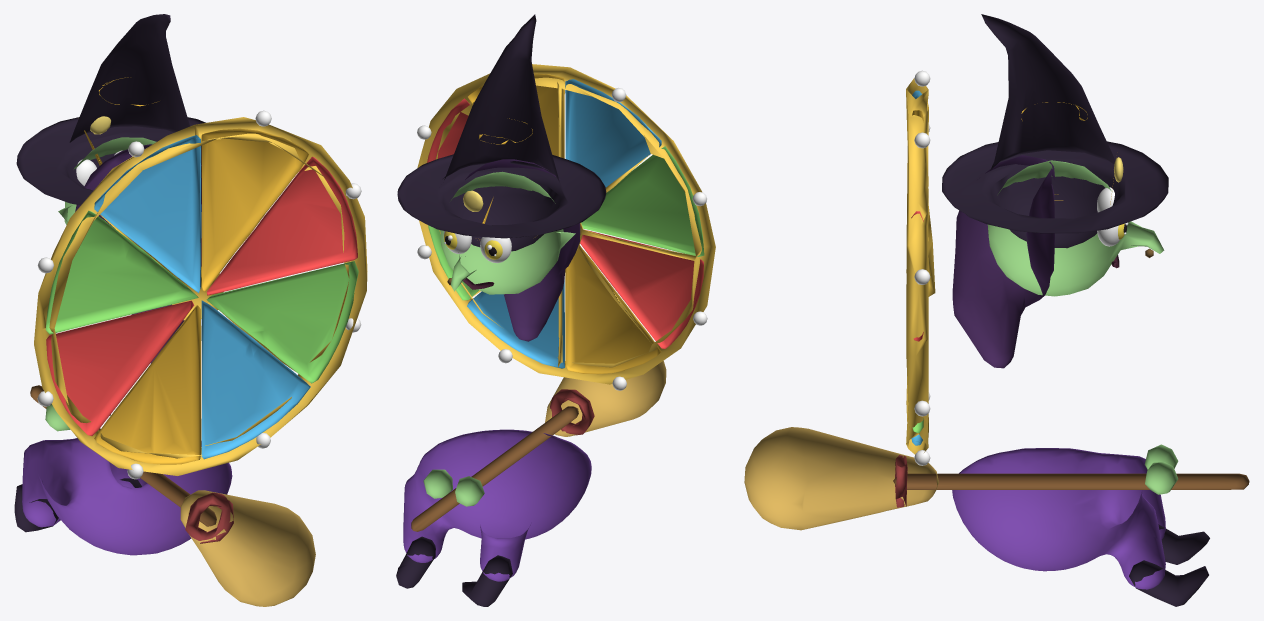
The model's file is boss_floating_witch.glb.
The picture shows the model from 3 angles, left to right: view 1: azimuth 30°, elevation 25°; view 2: azimuth 150°, elevation 25°; view 3: azimuth 270°, elevation 25°; orthographic projection. The views are drawn at different scales.
Visible parts, largest first — view 1: boss_floating_witch; view 2: boss_floating_witch; view 3: boss_floating_witch.
Part boxes in pixels (box(x1,y1,x2,y2)): boss_floating_witch: box(14, 14, 367, 606); boss_floating_witch: box(396, 14, 715, 606); boss_floating_witch: box(744, 14, 1249, 606).
Bounding box in the file's own units: 2.33 × 3.89 × 3.11.
Materials: 1 (1 with a texture image).
